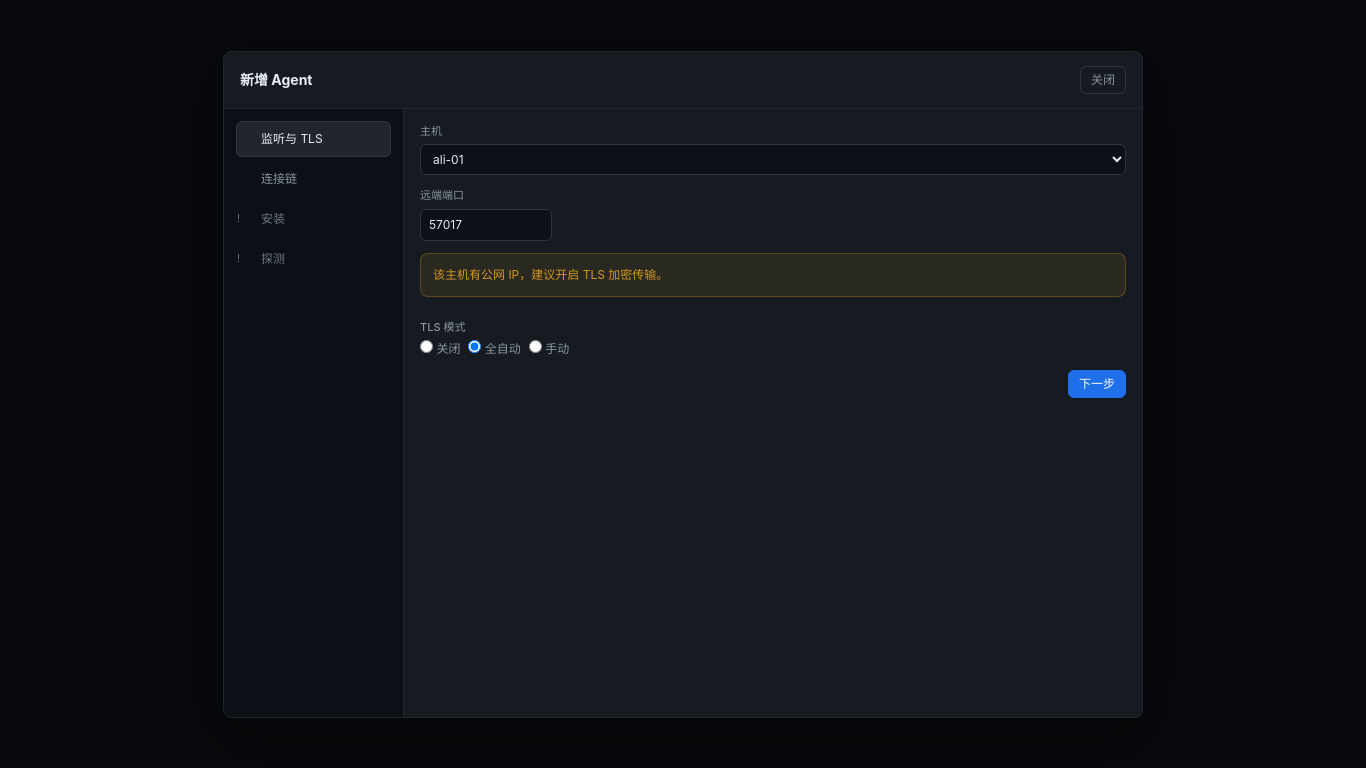
Test case: AgentConfigPanel › syncs the default create-mode tunnel port when the connection-chain tab is opened directly
Replace the text in the number field with test id "agent-listen-port" with "57021" at (486, 224), box [420,208,552,240]
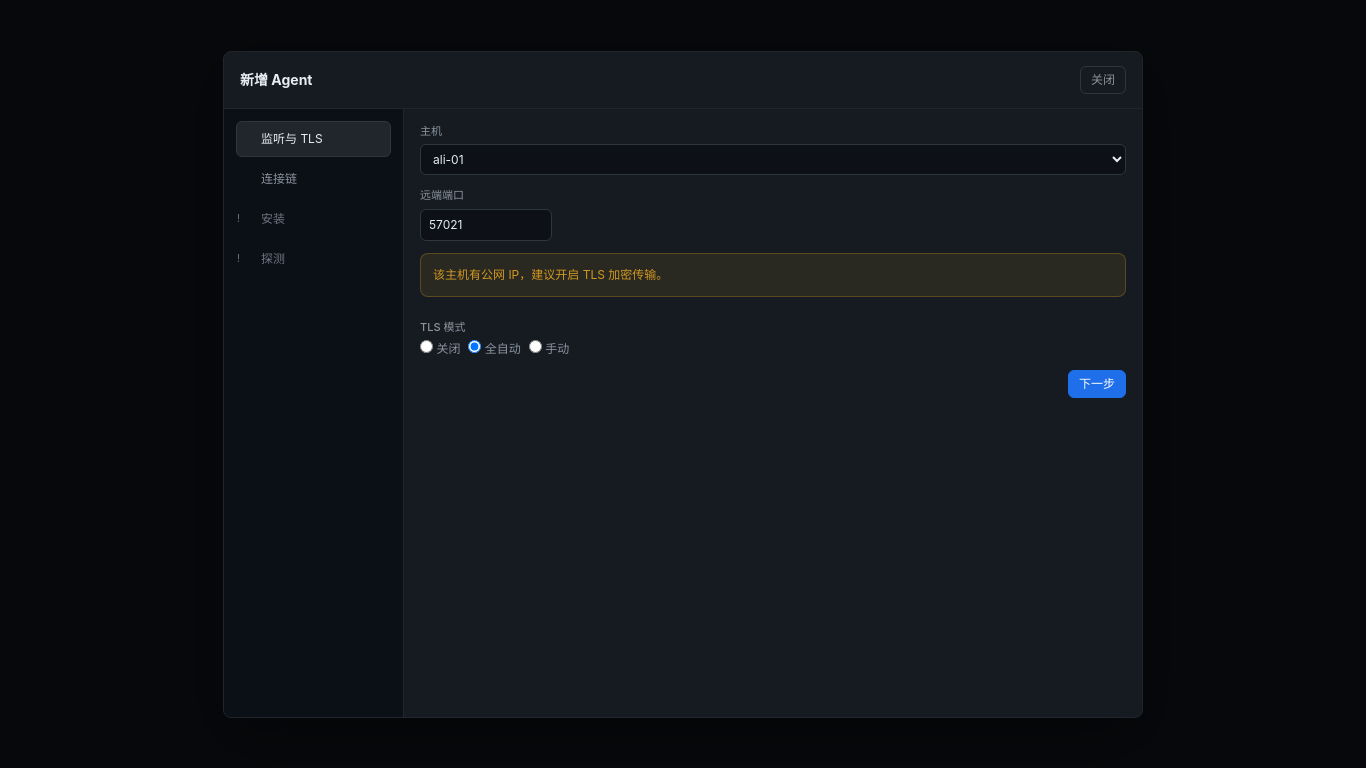
Click the button with test id "agent-panel-tab-transport" at (314, 178), box [236,160,391,196]
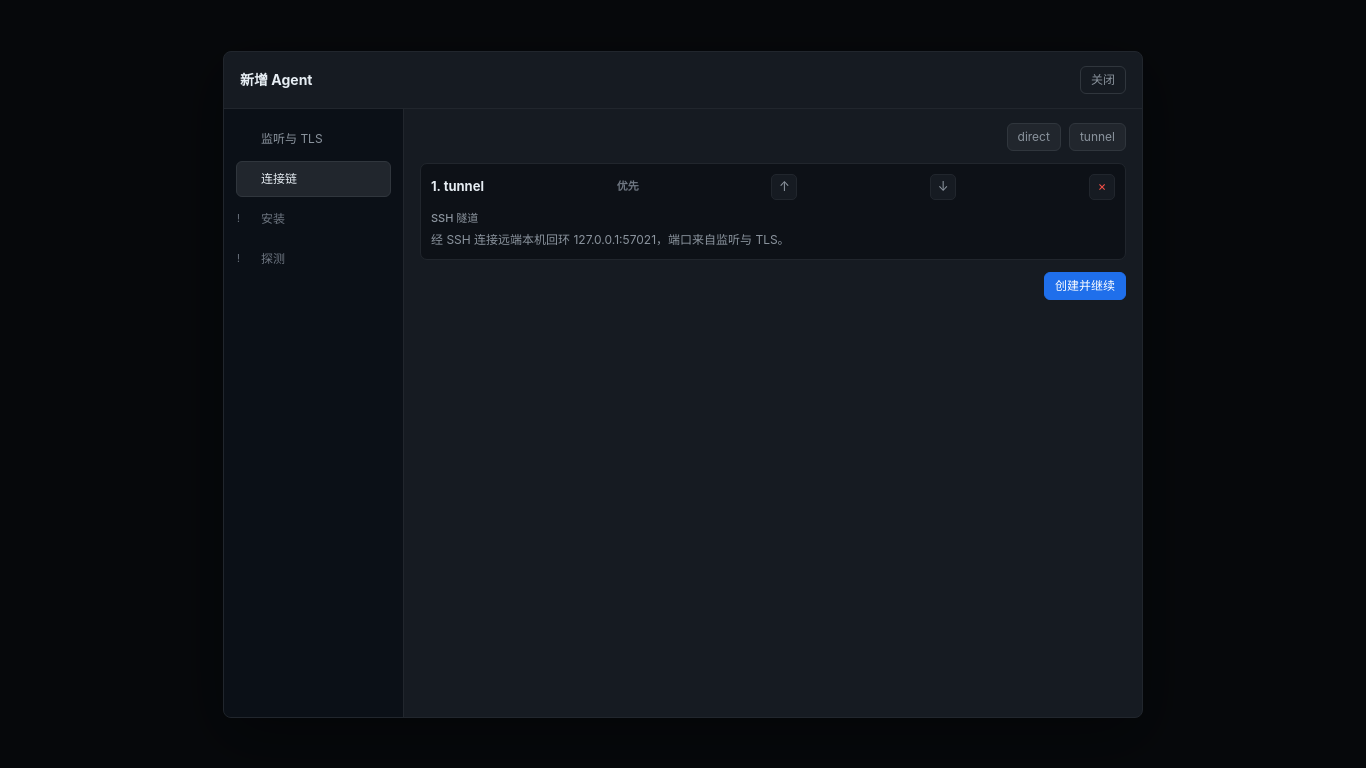
Expected: the text with test id "tunnel-loopback-note-0" shows "57021", [431,232,790,247]
